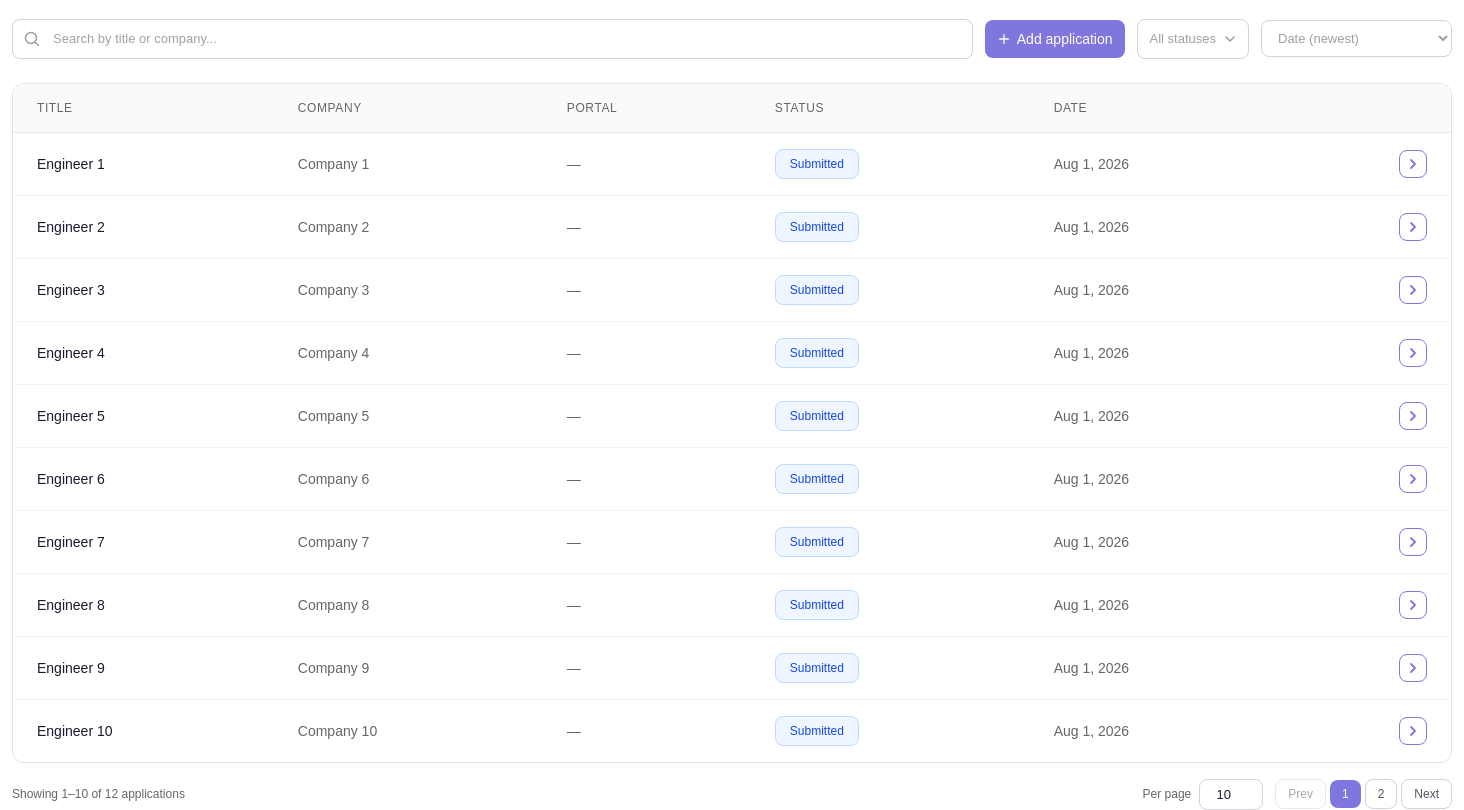
Test case: JobsList › pagination › resets to the first page when the search query changes
The width and height of the screenshot is (1464, 810).
Check: the text "Engineer 1" is shown, box [13,132,274,195]
Click the button with aria-label "Next page": (1427, 794) [1401,779,1452,809]
(page scrolled)
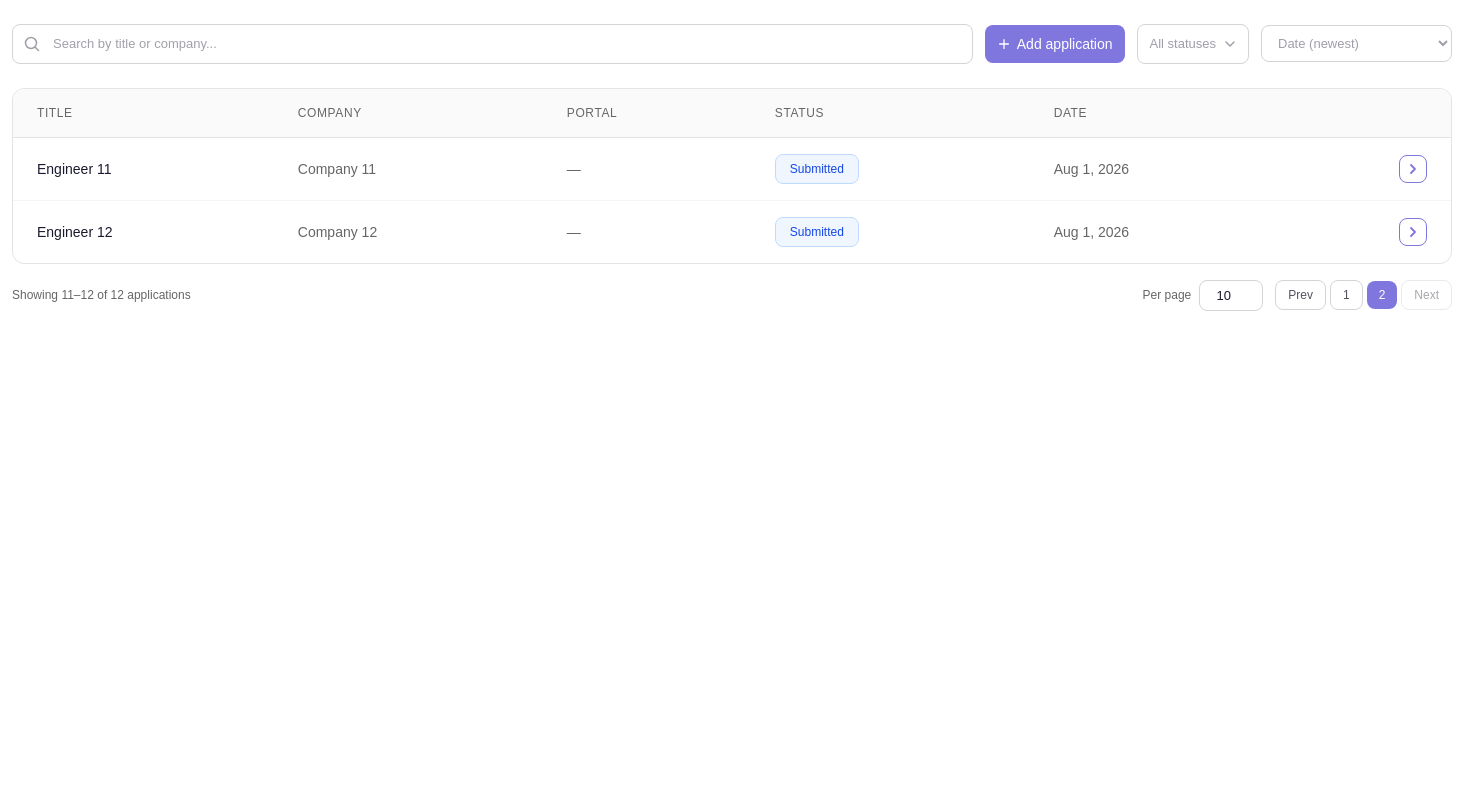
Check: the text "Showing 11–12 of 12 applications" is shown, box [12,287,191,303]
In the field with placeholder "Search by title or company...": (492, 44) [12,24,973,64], type "Engineer 1"
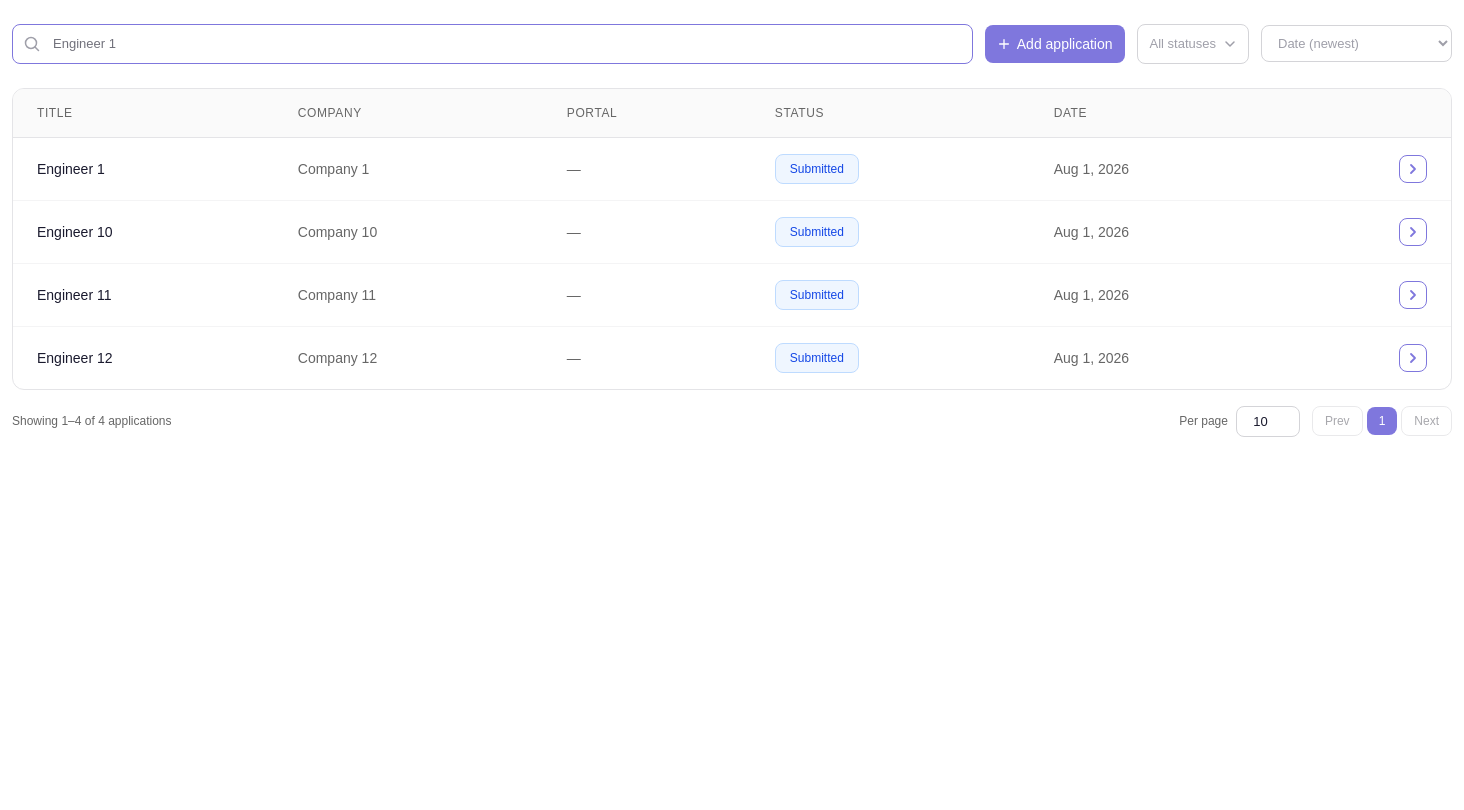
Check: the text "Showing 1–4 of 4 applications" is shown, box [12,413,172,429]
